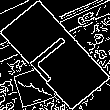L_NE: (25, 27, 85, 83)
